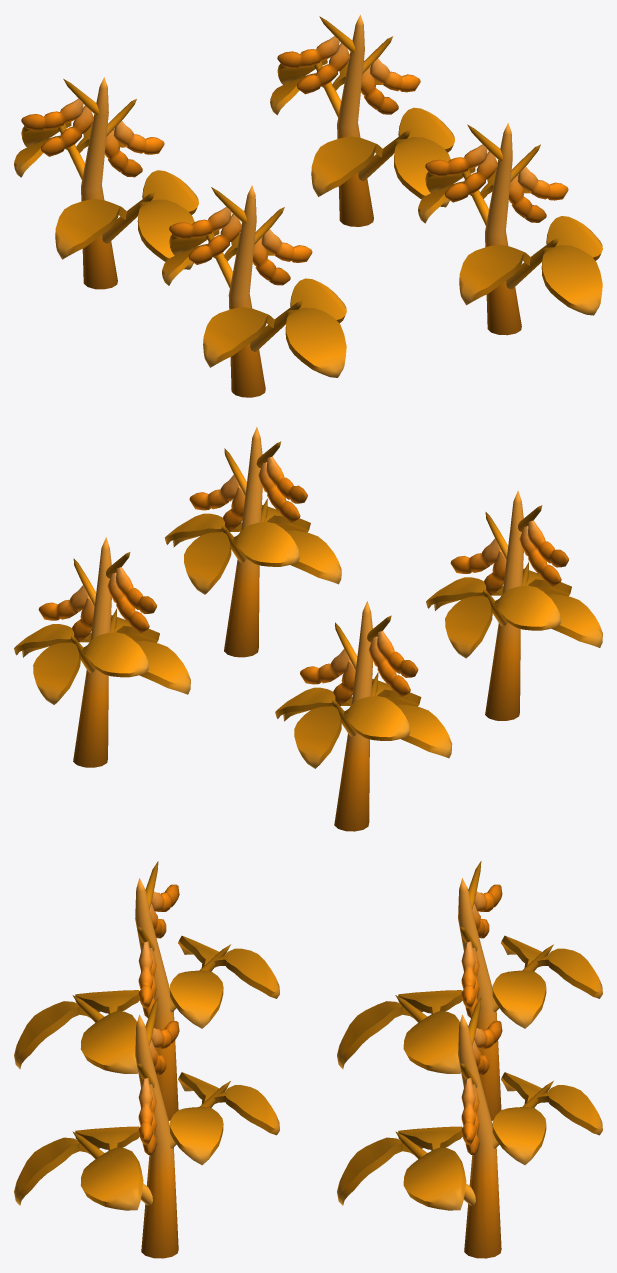
File: Farm_Crop_Soybean_Step_03.fbx
The picture shows the model from 3 angles, top to bottom: view 1: azimuth 30°, elevation 25°; view 2: azimuth 150°, elevation 25°; view 3: azimuth 270°, elevation 25°; orthographic projection. The views are drawn at different scales.
Parts seen in each view (by area): view 1: Farm_Crop_Soybean_Step_03; view 2: Farm_Crop_Soybean_Step_03; view 3: Farm_Crop_Soybean_Step_03.
Part boxes in pixels (x1,y1,x2,y2): Farm_Crop_Soybean_Step_03: [14, 14, 602, 397]; Farm_Crop_Soybean_Step_03: [14, 427, 602, 831]; Farm_Crop_Soybean_Step_03: [14, 861, 602, 1258].
Bounding box in the file's own units: 159 × 79.78 × 182.
